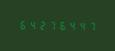four: (27, 19, 36, 30), (67, 20, 76, 31), (77, 20, 86, 31)
seven: (47, 19, 56, 30), (87, 20, 96, 31)
six: (57, 19, 66, 31), (17, 19, 26, 30)
two: (37, 19, 46, 30)
